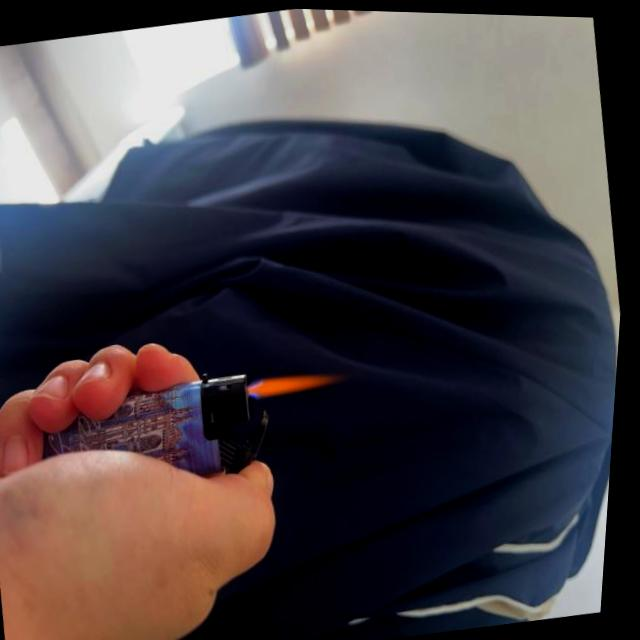helmet: (254, 364, 349, 406)
